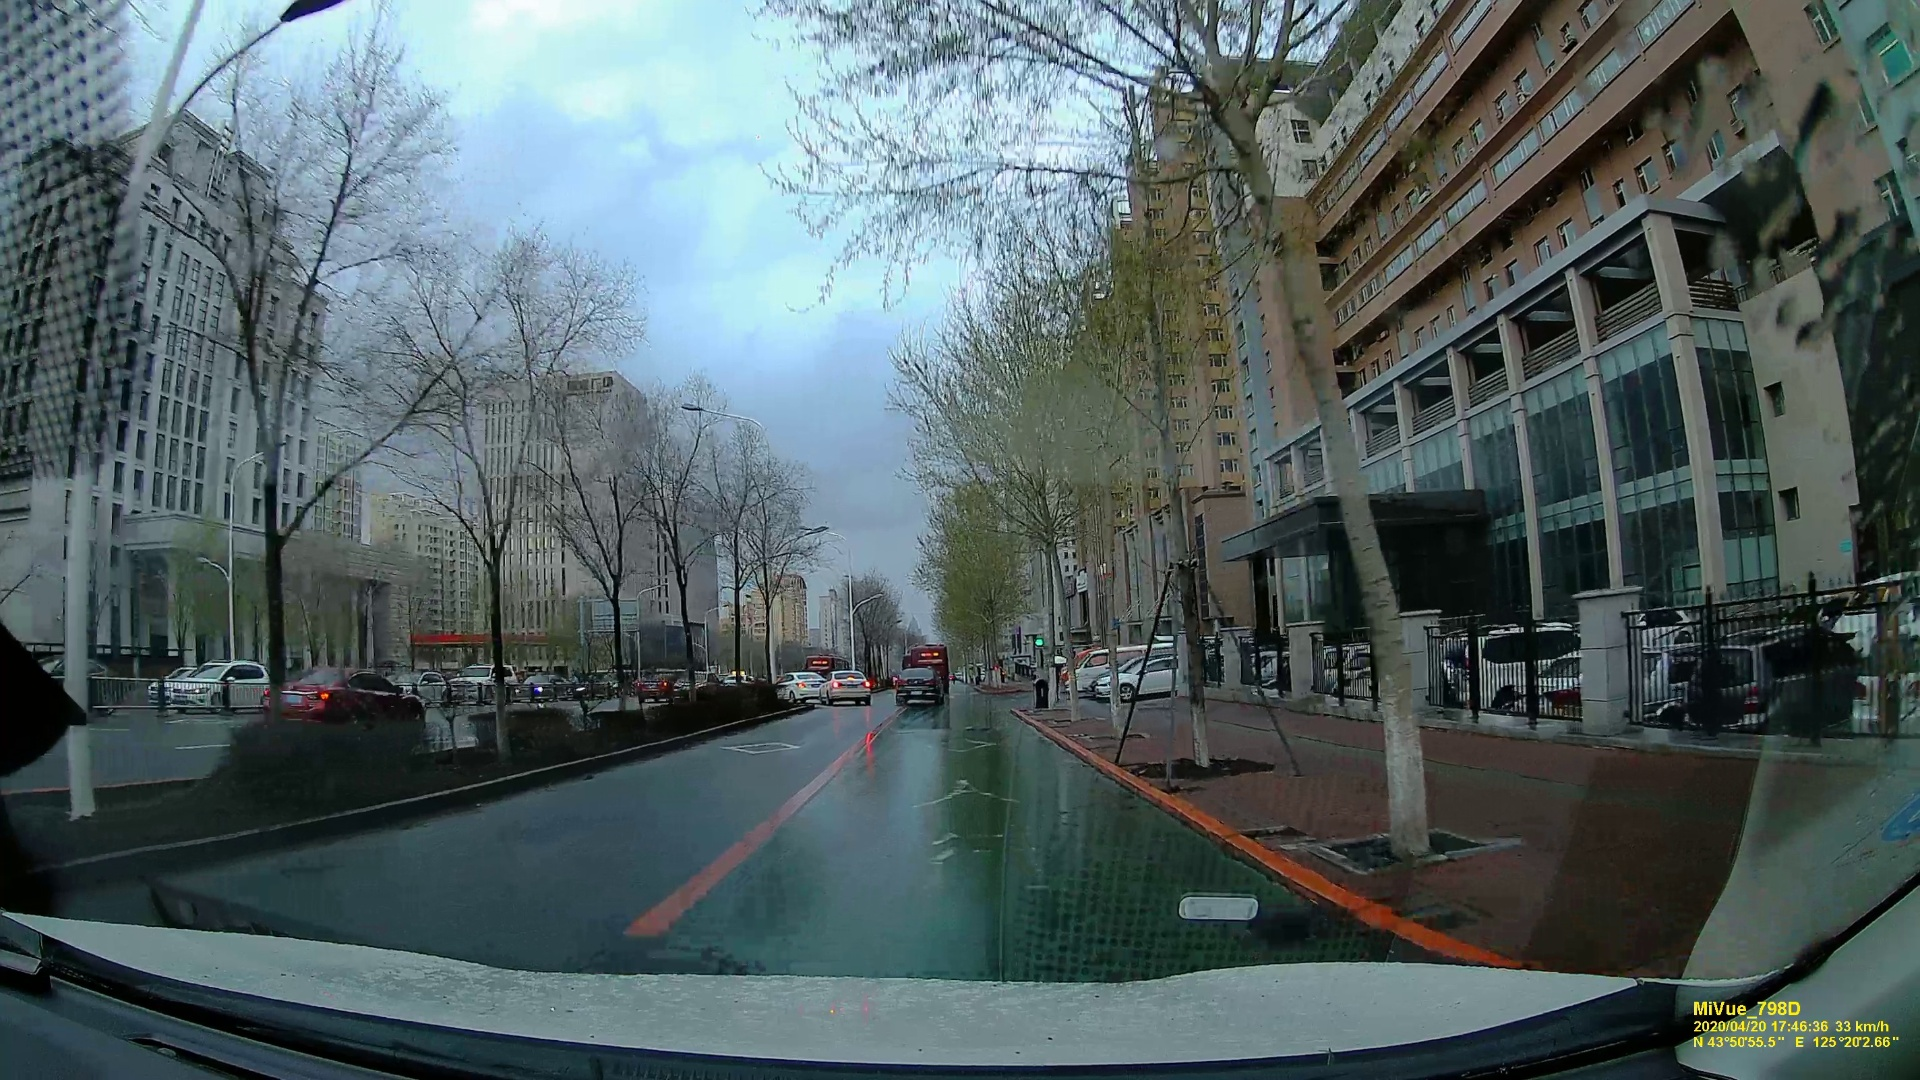vehicle: (895, 669, 942, 709), (822, 669, 868, 703), (778, 673, 825, 700)
